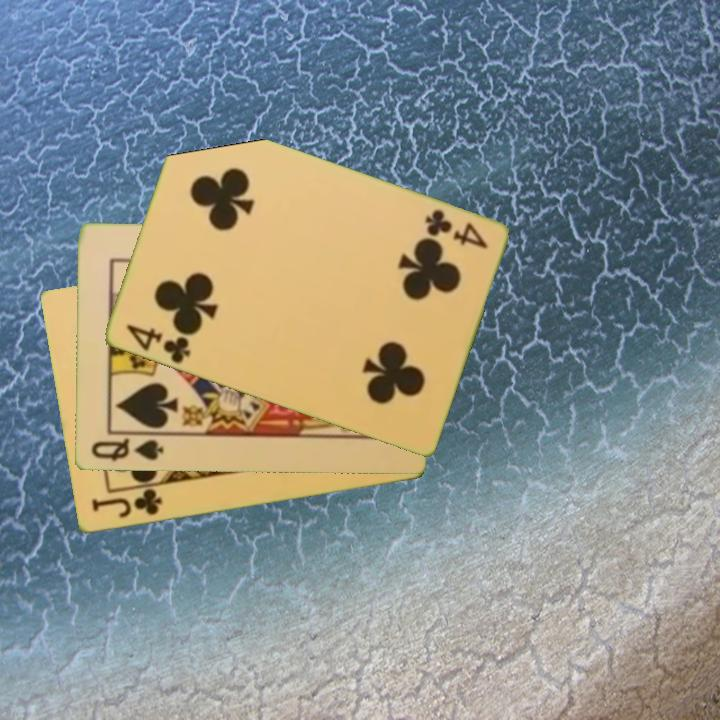4c: (122, 321, 193, 367), (421, 206, 490, 252)
Jc: (88, 485, 165, 521)
Qs: (87, 434, 166, 464)
